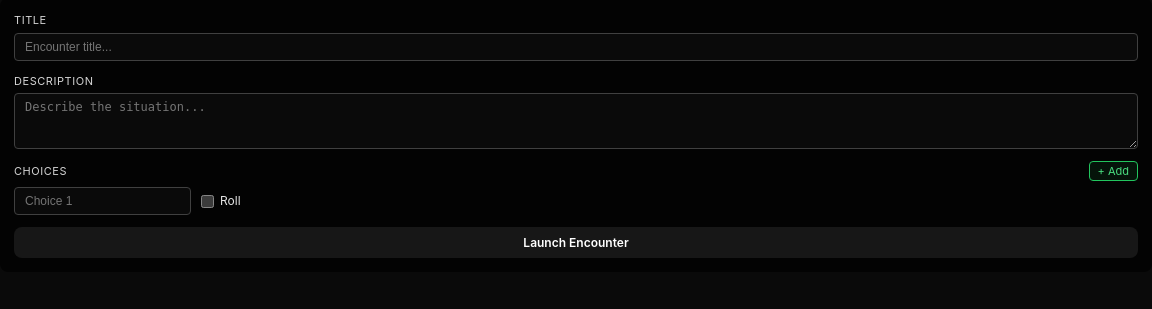
Test: EncounterBuilder › Add button inserts a new choice
The image size is (1152, 309).
Click the button "+ Add" at (1113, 171), box [1089,161,1138,181]
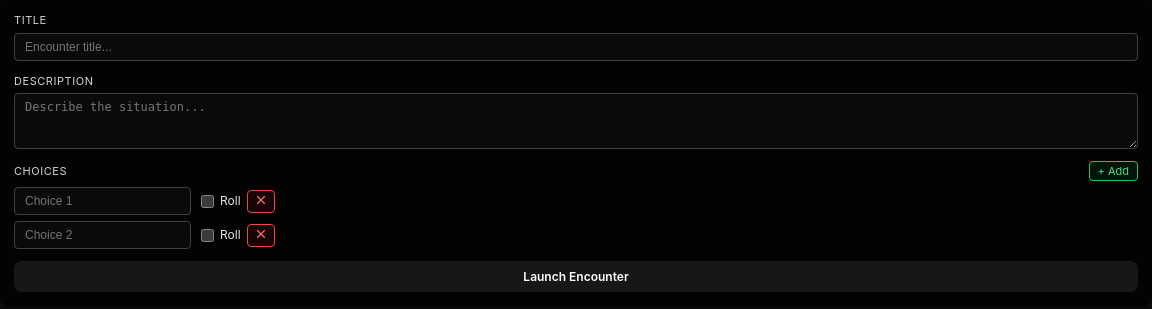
Expected: the field with placeholder "Choice 2" is shown, [14,221,191,249]
